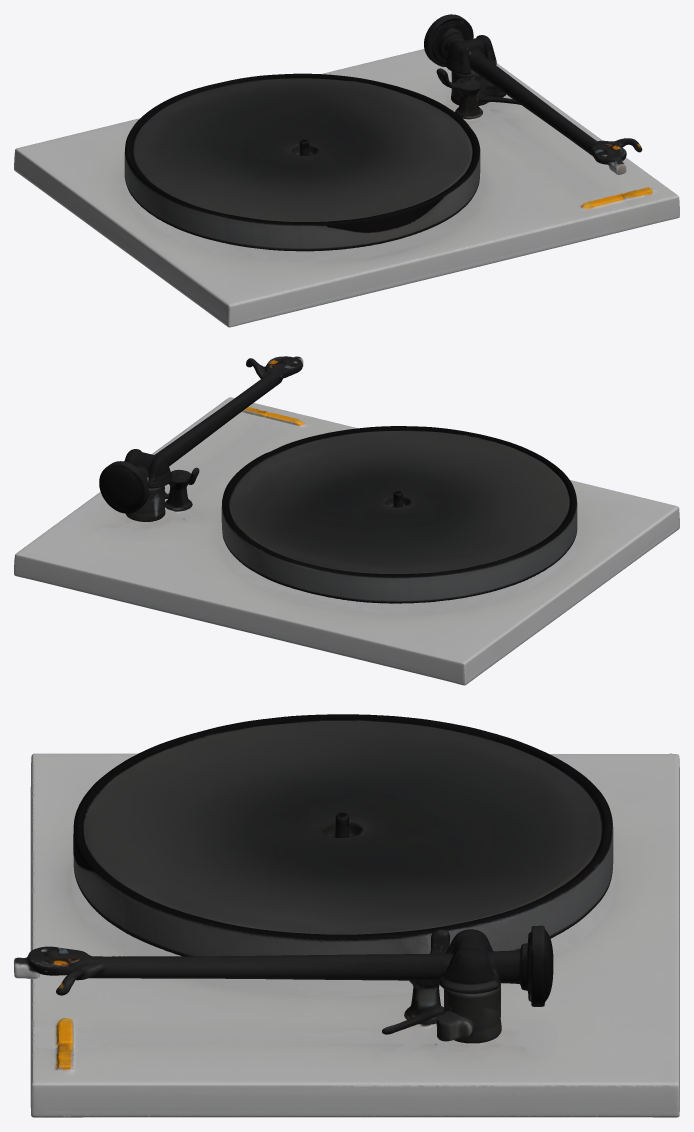
File: turntable 3d model.glb
3 renders of one model, top to bottom at view 1: azimuth 30°, elevation 25°; view 2: azimuth 150°, elevation 25°; view 3: azimuth 270°, elevation 25°, orthographic. The views are drawn at different scales.
Visible parts, largest first — view 1: tripo_node_f6c8ac10-091e-4aea-8cba-784776d1ee4b; view 2: tripo_node_f6c8ac10-091e-4aea-8cba-784776d1ee4b; view 3: tripo_node_f6c8ac10-091e-4aea-8cba-784776d1ee4b.
Part boxes in pixels (x1,y1,x2,y2): tripo_node_f6c8ac10-091e-4aea-8cba-784776d1ee4b: [14, 14, 679, 327]; tripo_node_f6c8ac10-091e-4aea-8cba-784776d1ee4b: [14, 356, 679, 685]; tripo_node_f6c8ac10-091e-4aea-8cba-784776d1ee4b: [14, 714, 679, 1117].
Bounding box in the file's own units: 1 × 0.2111 × 0.8466.
1 material, 1 textured.
